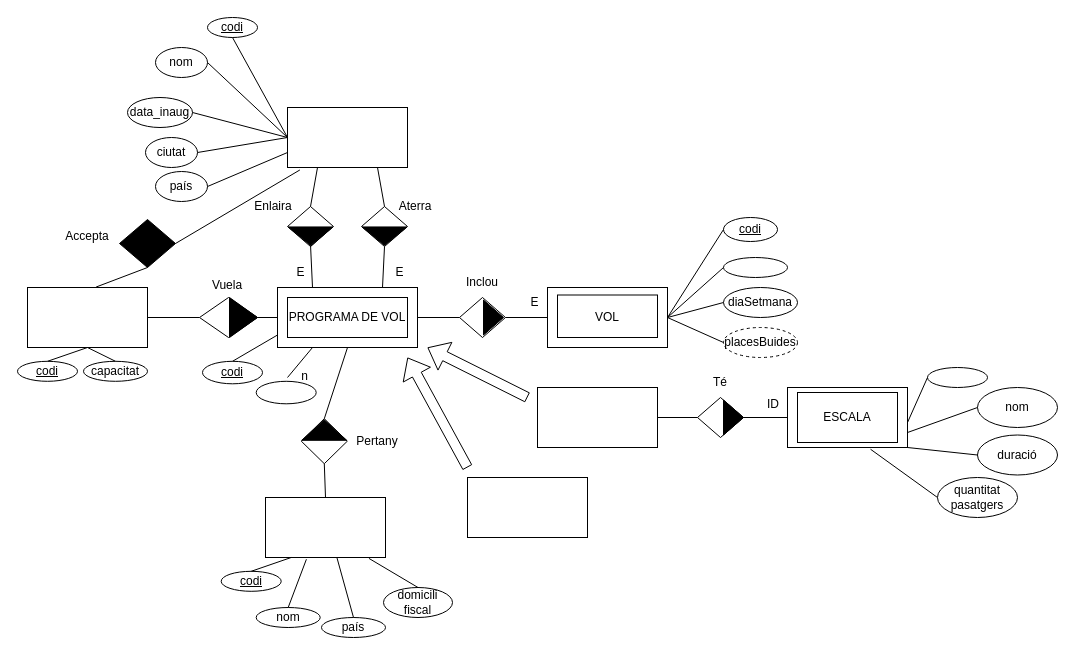
This 1075x655 diagram has some shape labels left out. Here are the shapes that lost their labels. From the top down, the centre of each, then its label:
At point (347, 137): "AEROPORT".
At point (755, 267): "data".
At point (87, 317): "MODEL D'AVIÓ".
At point (285, 392): "díes".
At point (957, 377): "num".
At point (597, 417): "AMB ESCALES".
At point (325, 527): "LÍNIA AÈRiA".
At point (527, 507): "DIRECTE".
